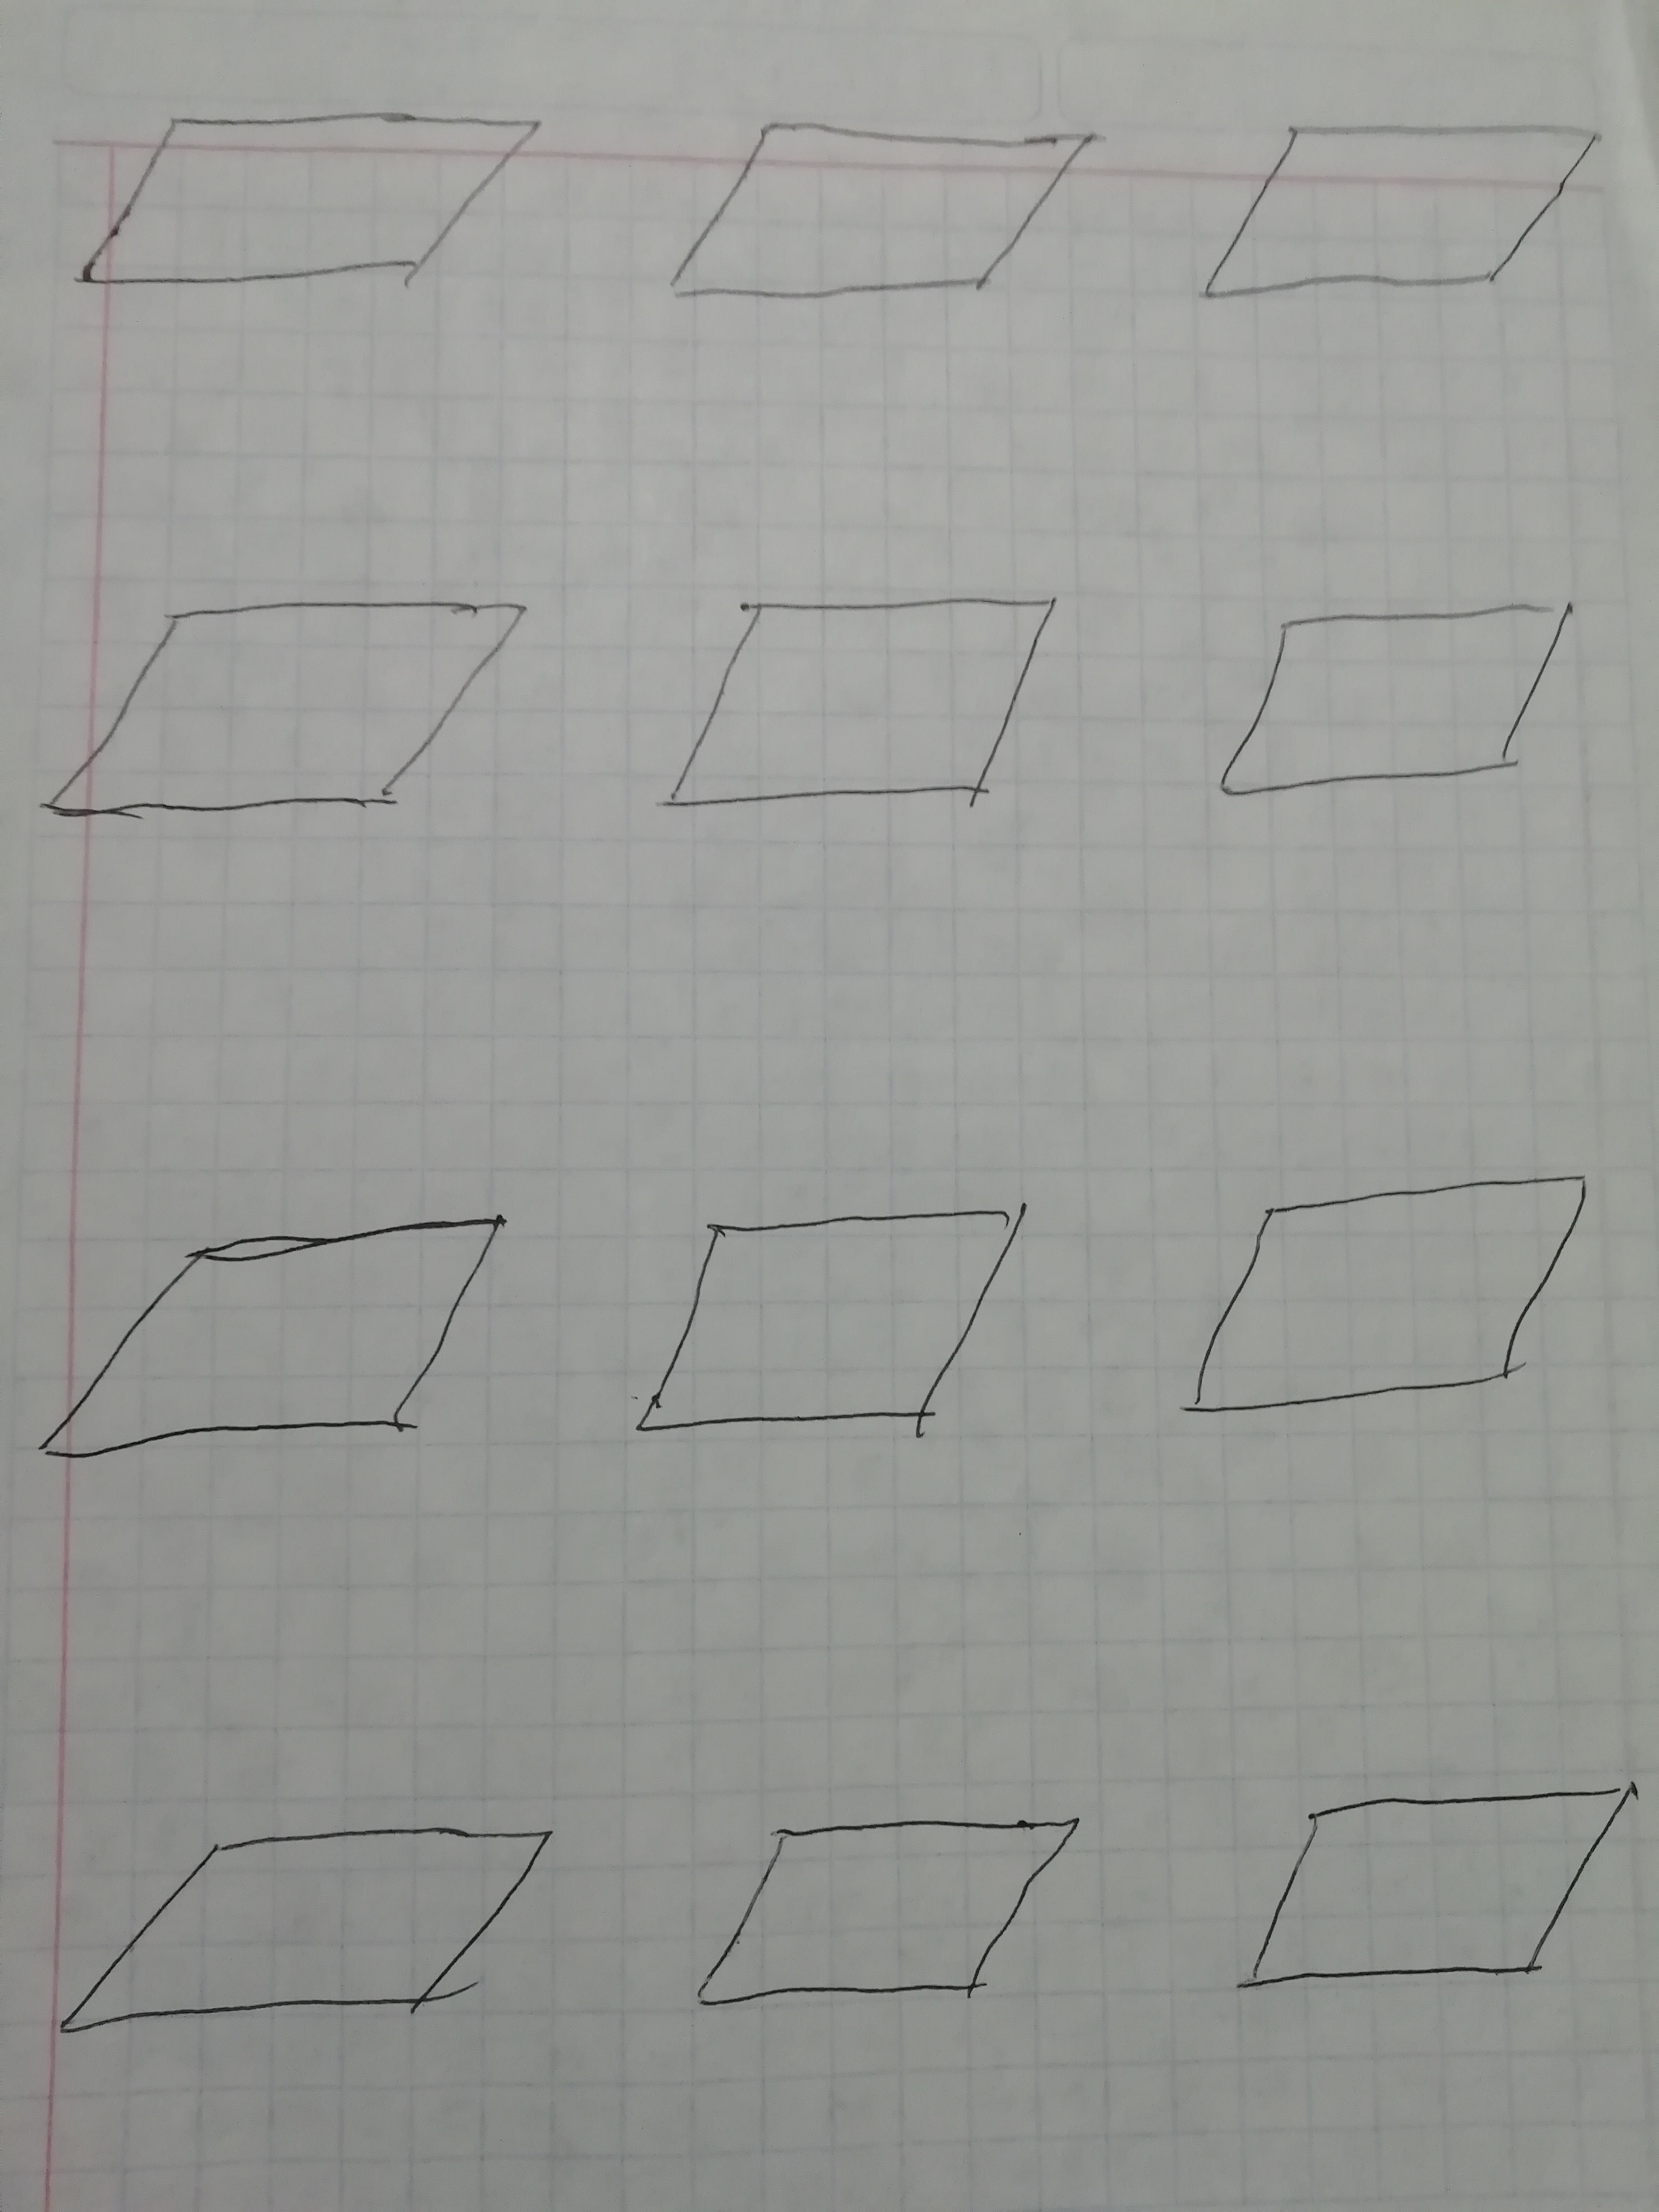scan: (19, 542, 561, 894), (9, 1778, 582, 2085), (2, 1198, 540, 1496), (650, 66, 1126, 397), (633, 549, 1086, 873), (47, 59, 558, 347), (619, 1170, 1061, 1489), (1168, 1151, 1624, 1453), (664, 1787, 1115, 2066), (1164, 85, 1624, 354), (1192, 1761, 1659, 2019), (1197, 566, 1614, 850)
